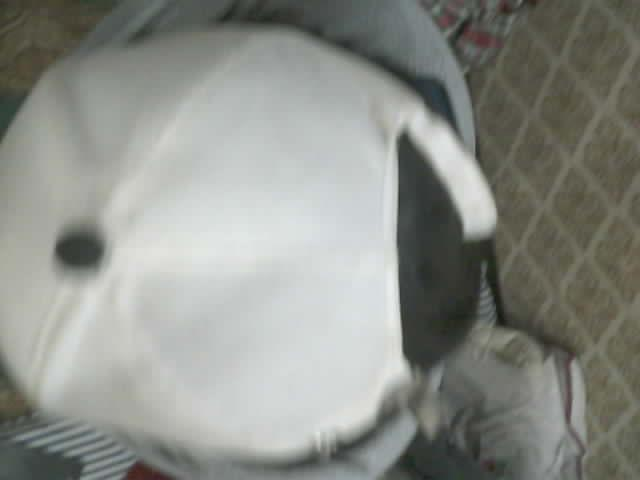cap: (0, 18, 501, 467)
